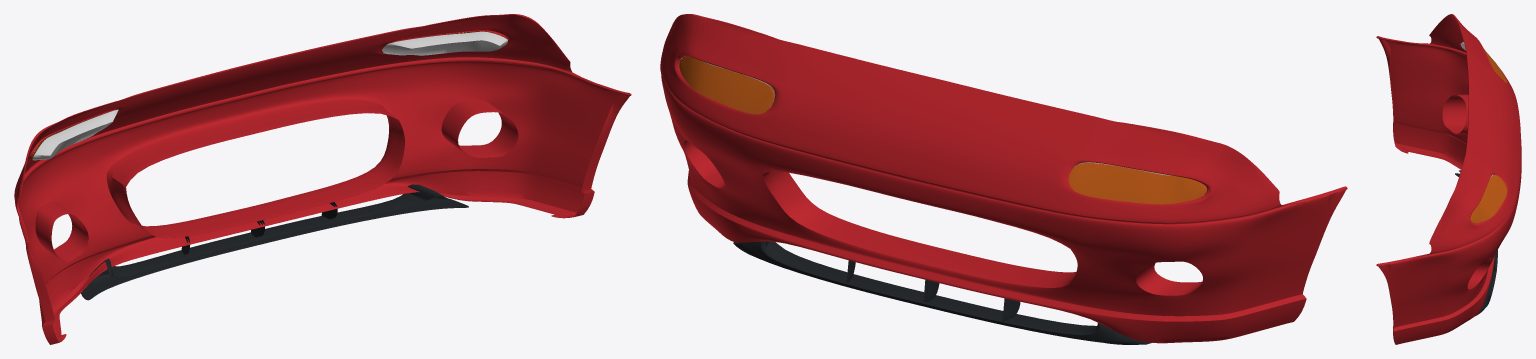
The picture shows the model from 3 angles, left to right: view 1: azimuth 30°, elevation 25°; view 2: azimuth 150°, elevation 25°; view 3: azimuth 270°, elevation 25°; orthographic projection. The views are drawn at different scales.
Parts seen in each view (by area): view 1: Miata_Aero_FrontBarHY; view 2: Miata_Aero_FrontBarHY; view 3: Miata_Aero_FrontBarHY.
Part boxes in pixels (bbox=[...]): Miata_Aero_FrontBarHY: bbox=[14, 14, 631, 344]; Miata_Aero_FrontBarHY: bbox=[660, 14, 1347, 344]; Miata_Aero_FrontBarHY: bbox=[1376, 14, 1521, 344].
Size of the model in its own units: 64.14 by 19.29 by 17.21.
